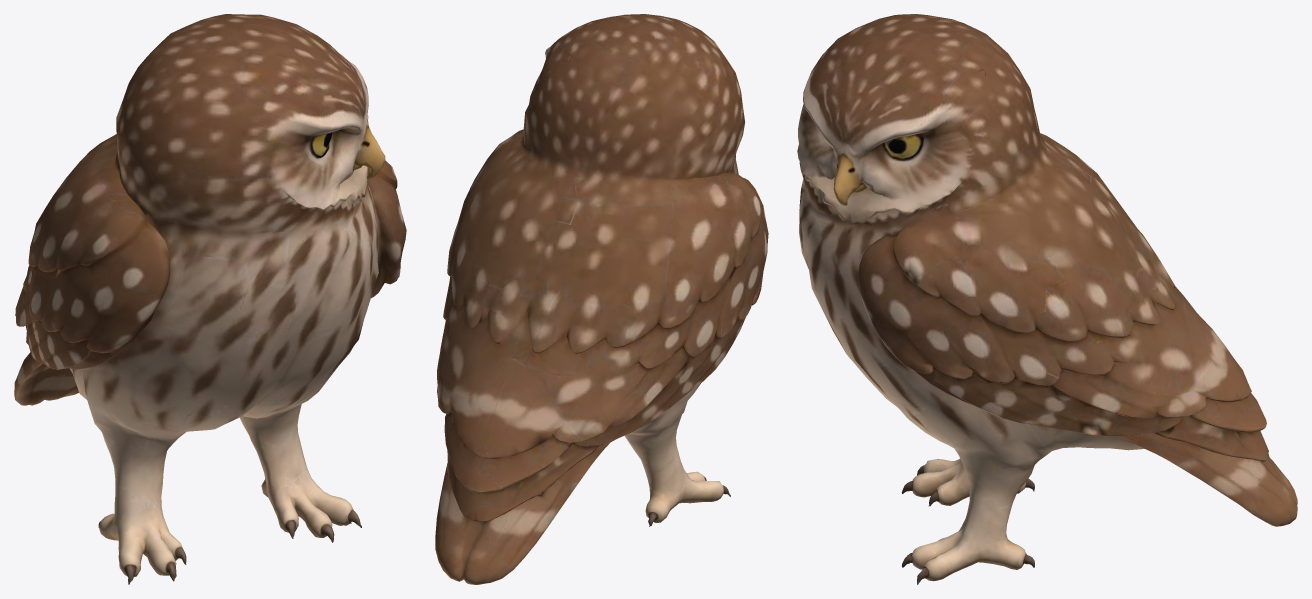
Rendered from owl-little.glb.
3 views of the same model, side by side, from view 1: azimuth 30°, elevation 25°; view 2: azimuth 150°, elevation 25°; view 3: azimuth 270°, elevation 25° (orthographic). The views are drawn at different scales.
Parts seen in each view (by area): view 1: geometry_0; view 2: geometry_0; view 3: geometry_0.
Part boxes in pixels (x1,y1,x2,y2): geometry_0: (14,14,406,584); geometry_0: (435,14,768,584); geometry_0: (797,14,1297,584).
Size of the model in its own units: 0.5942 by 0.9526 by 0.8609.
1 material, 1 textured.
